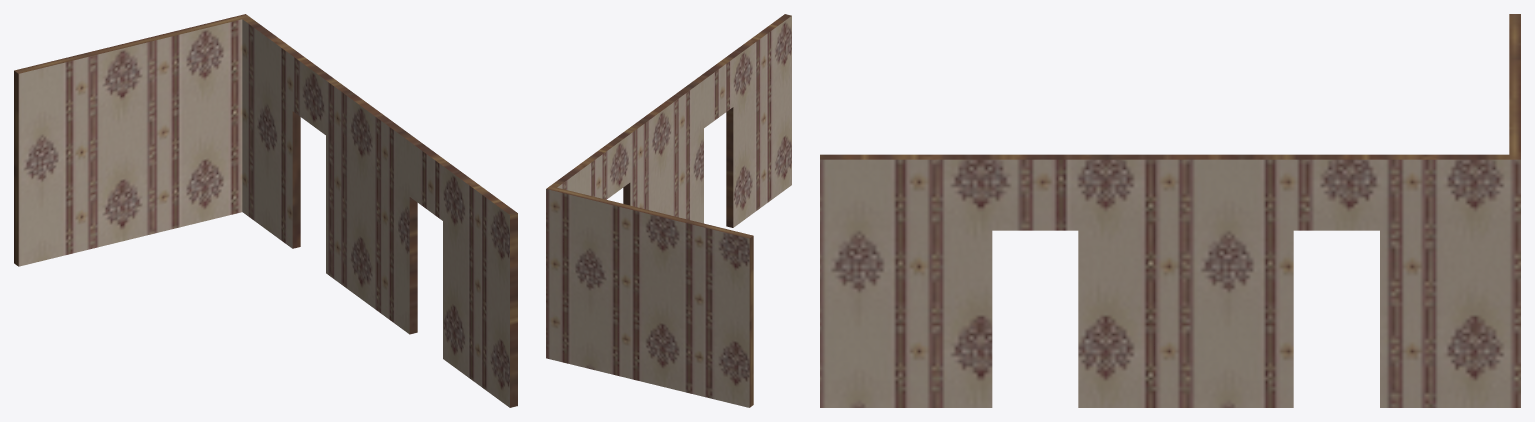
The model's file is 0_wall_3_woqr.dae.
3 views of the same model, side by side, from view 1: azimuth 30°, elevation 25°; view 2: azimuth 150°, elevation 25°; view 3: azimuth 270°, elevation 25° (orthographic). The views are drawn at different scales.
Parts seen in each view (by area): view 1: Plane.005; view 2: Plane.005; view 3: Plane.005.
Part boxes in pixels (x1,y1,x2,y2): Plane.005: (14,14,517,407); Plane.005: (546,14,791,407); Plane.005: (820,14,1520,407).
Bounding box in the file's own units: 4.4 × 8.95 × 3.5.
Materials: 1 (1 with a texture image).
